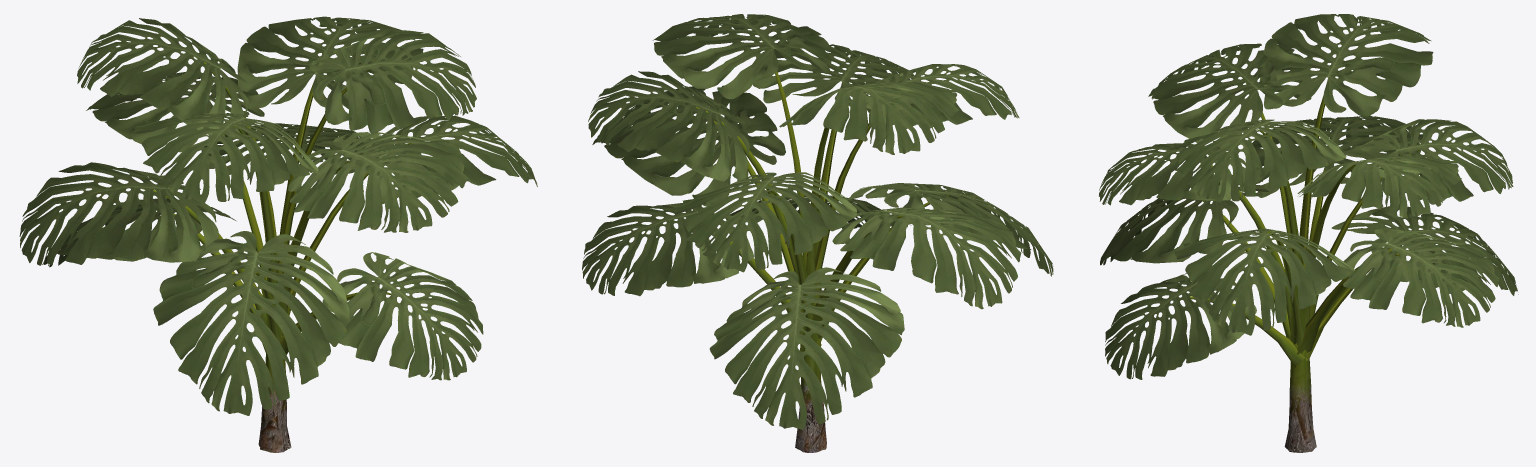
Rendered from monstera.glb.
3 renders of one model, left to right at view 1: azimuth 30°, elevation 25°; view 2: azimuth 150°, elevation 25°; view 3: azimuth 270°, elevation 25°, orthographic. The views are drawn at different scales.
Visible parts, largest first — view 1: Tree_1, Tree_2, Tree_0; view 2: Tree_1, Tree_2, Tree_0; view 3: Tree_1, Tree_2, Tree_0.
Boxes of the visible parts, left/top/right/bottom form: Tree_1: left=19, top=16, right=537, bottom=415; Tree_2: left=141, top=57, right=411, bottom=354; Tree_0: left=258, top=351, right=291, bottom=452; Tree_1: left=582, top=14, right=1053, bottom=429; Tree_2: left=696, top=41, right=949, bottom=351; Tree_0: left=795, top=342, right=826, bottom=452; Tree_1: left=1099, top=14, right=1518, bottom=379; Tree_2: left=1190, top=83, right=1419, bottom=367; Tree_0: left=1284, top=343, right=1316, bottom=452.
Size of the model in its own units: 1.3 by 1.09 by 1.12.
Materials: 3 (3 with a texture image).
